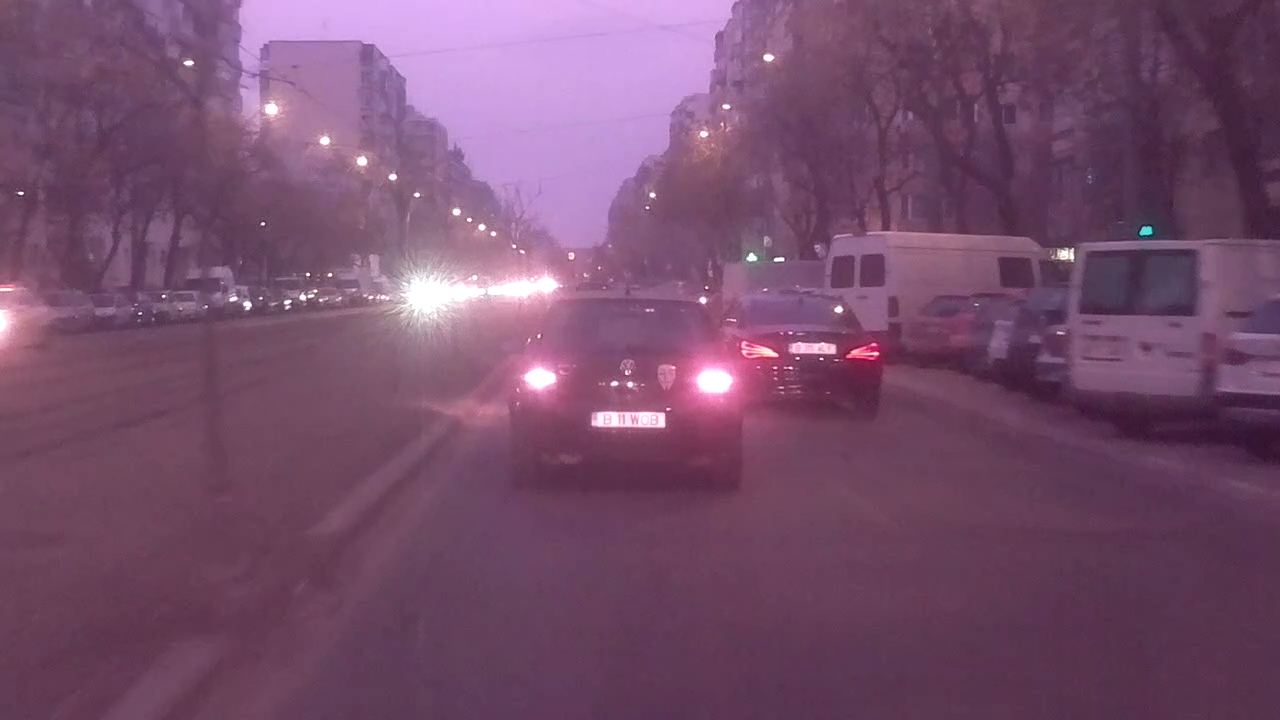license-plate: (587, 409, 669, 431)
